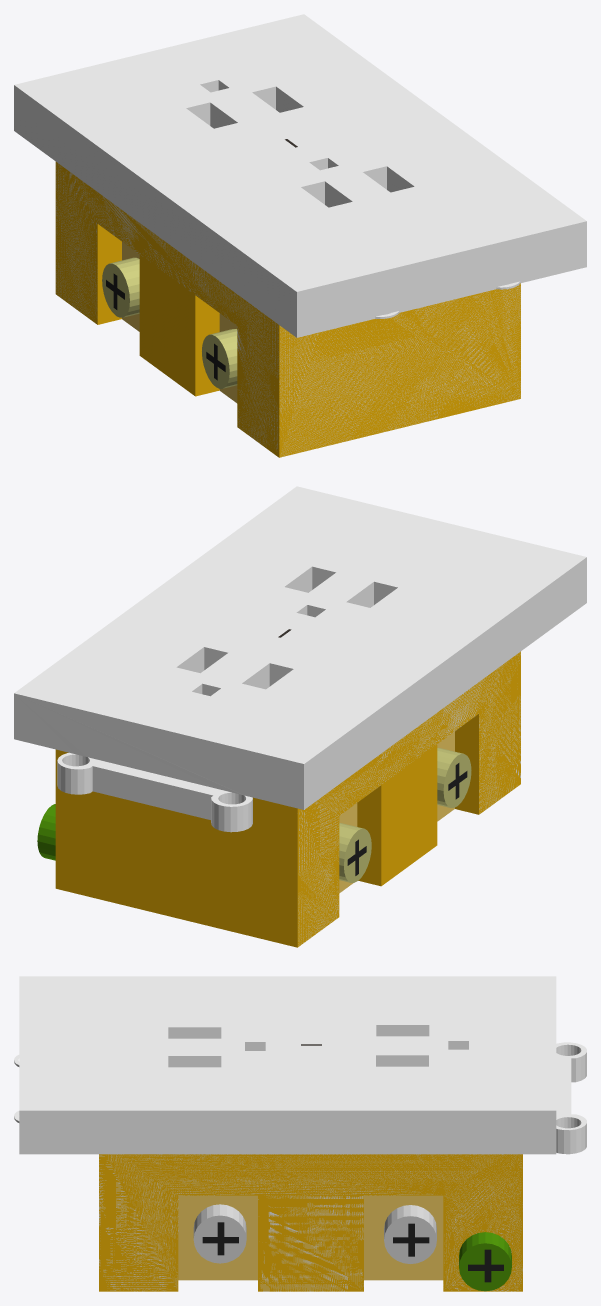
3 renders of one model, top to bottom at view 1: azimuth 30°, elevation 25°; view 2: azimuth 150°, elevation 25°; view 3: azimuth 270°, elevation 25°, orthographic. The views are drawn at different scales.
Visible parts, largest first — view 1: electrical outlet; view 2: electrical outlet; view 3: electrical outlet.
Boxes of the visible parts, left/top/right/bottom form: electrical outlet: left=14, top=14, right=586, bottom=457; electrical outlet: left=14, top=486, right=586, bottom=947; electrical outlet: left=14, top=976, right=586, bottom=1291.
Bounding box in the file's own units: 3 × 2 × 5.41.
